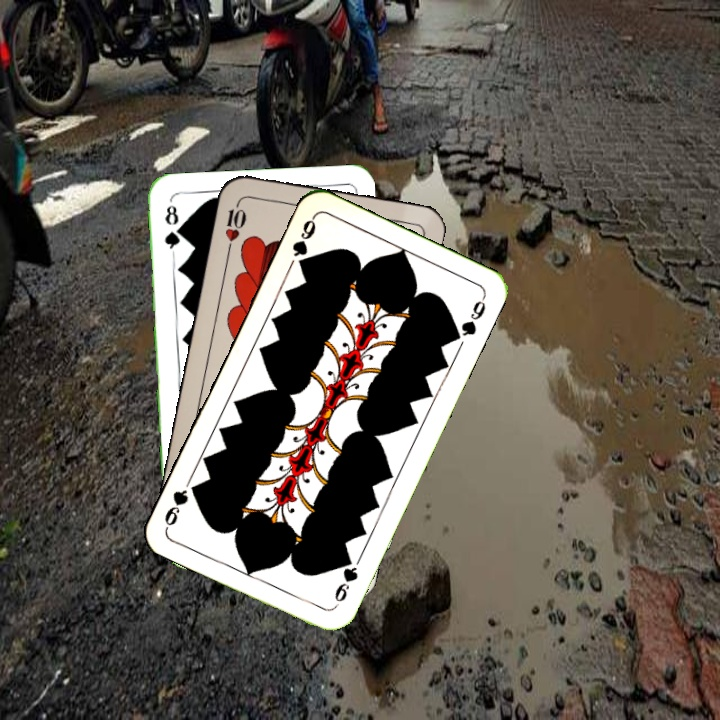G8: (161, 201, 183, 257)
G9: (330, 551, 363, 610), (288, 212, 319, 272)
H10: (221, 195, 249, 254)
